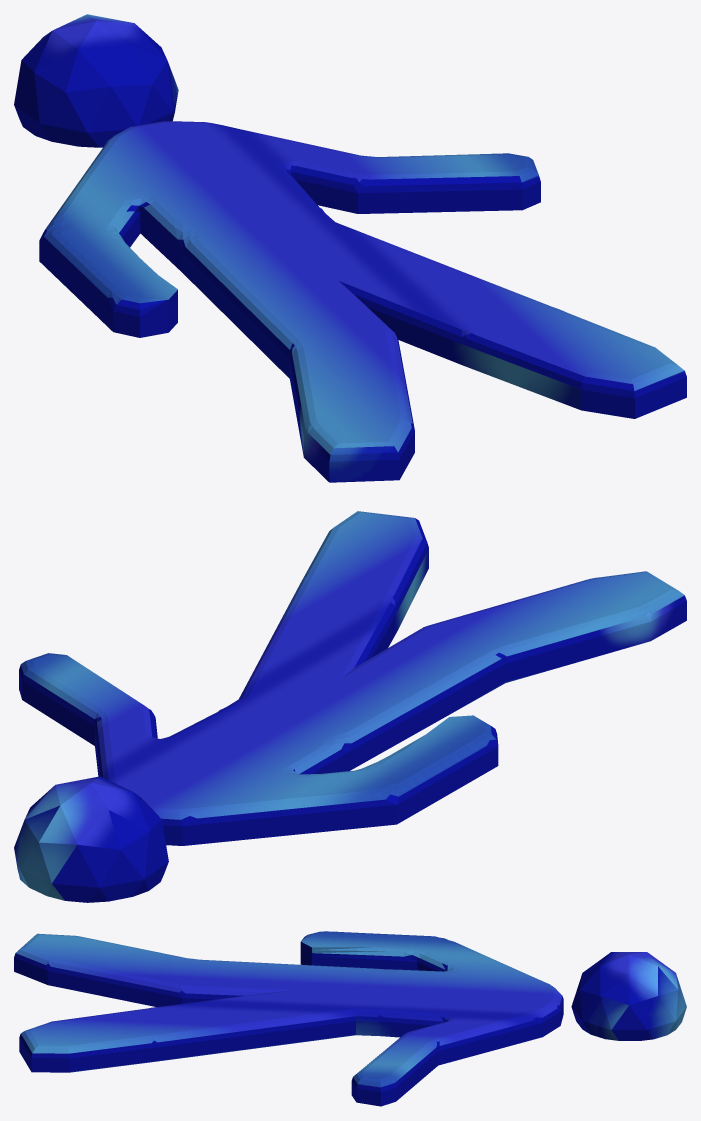
File: model_pedestrian.obj
3 renders of one model, top to bottom at view 1: azimuth 30°, elevation 25°; view 2: azimuth 150°, elevation 25°; view 3: azimuth 270°, elevation 25°, orthographic. The views are drawn at different scales.
Visible parts, largest first — view 1: Body_Grid; view 2: Body_Grid; view 3: Body_Grid.
Part boxes in pixels (x1,y1,x2,y2): Body_Grid: (14, 14, 686, 482); Body_Grid: (14, 511, 686, 902); Body_Grid: (14, 931, 686, 1106).
Size of the model in its own units: 1.09 by 0.2135 by 1.98.
Materials: 1 (1 with a texture image).
